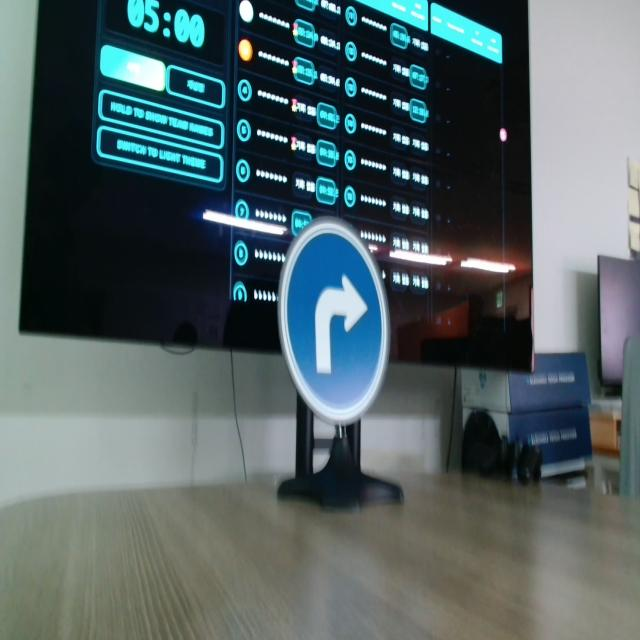right_dierection: (274, 217, 392, 434)
